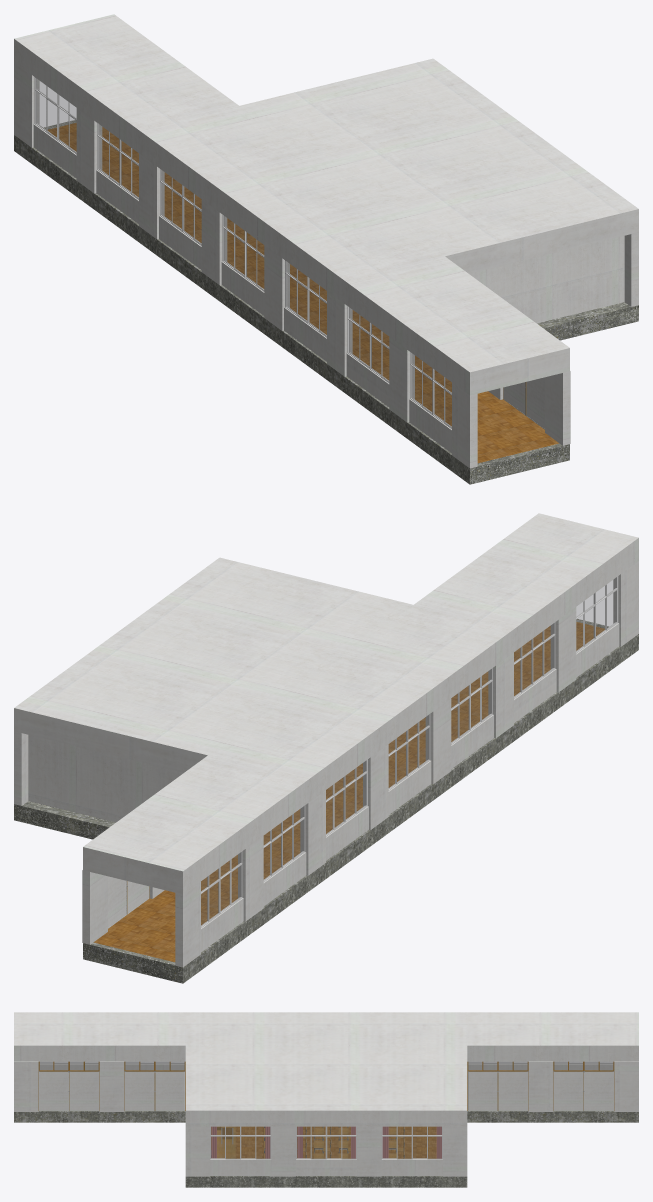
The model's file is Classroom.fbx.
3 renders of one model, top to bottom at view 1: azimuth 30°, elevation 25°; view 2: azimuth 150°, elevation 25°; view 3: azimuth 270°, elevation 25°, orthographic. The views are drawn at different scales.
Visible parts, largest first — view 1: Walls, PlasticWindows, ParquetFloor, ConcreteBase, PlasterPanels; view 2: Walls, PlasticWindows, ConcreteBase, ParquetFloor, PlasterPanels; view 3: Walls, PlasterPanels, ConcreteBase, PlasticWindows, ParquetFloor, WoodWindows, Desks, WoodFloor, Curtains3, Curtains1, Curtains2.
Part boxes in pixels (<box>): Walls: <box>14,14,638,468</box>; PlasticWindows: <box>34,77,451,428</box>; ParquetFloor: <box>47,123,558,463</box>; ConcreteBase: <box>14,120,638,484</box>; PlasterPanels: <box>503,377,544,429</box>; Walls: <box>14,513,638,967</box>; PlasticWindows: <box>201,576,618,927</box>; ConcreteBase: <box>14,619,638,983</box>; ParquetFloor: <box>94,622,604,962</box>; PlasterPanels: <box>108,876,149,928</box>; Walls: <box>14,1012,638,1176</box>; PlasterPanels: <box>39,1071,613,1110</box>; ConcreteBase: <box>14,1111,638,1187</box>; PlasticWindows: <box>39,1062,613,1159</box>; ParquetFloor: <box>235,1126,436,1158</box>; WoodWindows: <box>38,1061,614,1110</box>; Desks: <box>263,1126,404,1158</box>; WoodFloor: <box>211,1126,235,1158</box>; Curtains3: <box>382,1126,441,1158</box>; Curtains1: <box>211,1126,270,1158</box>; Curtains2: <box>297,1126,355,1158</box>.
Size of the model in its own units: 1158 by 422 by 3109.
